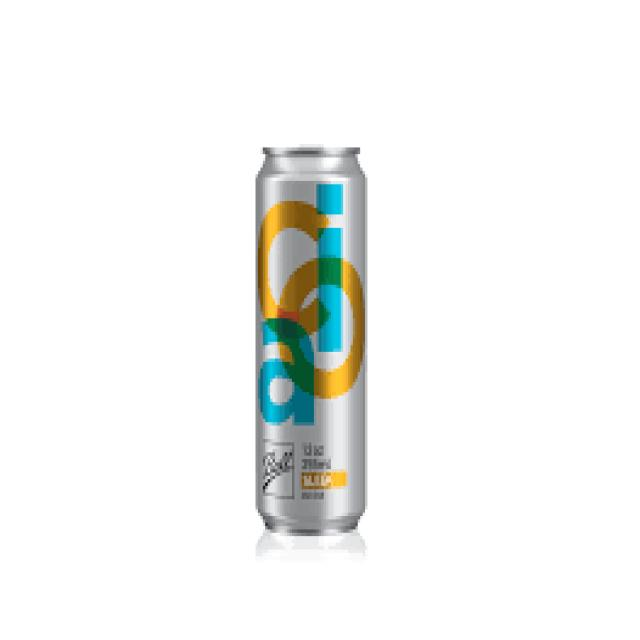Cans: (248, 134, 375, 546)
